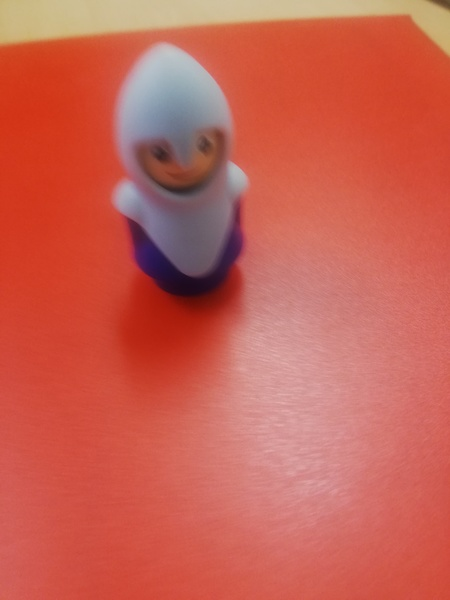personBlue: (106, 44, 253, 297)
